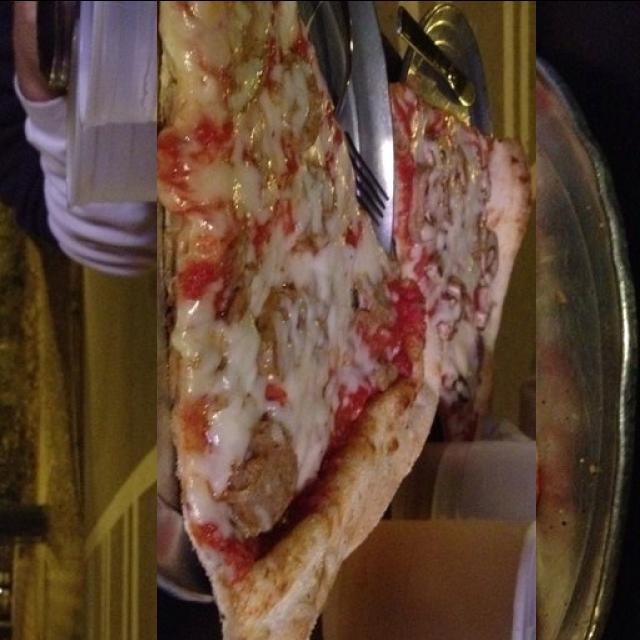pizza: (157, 0, 536, 640)
